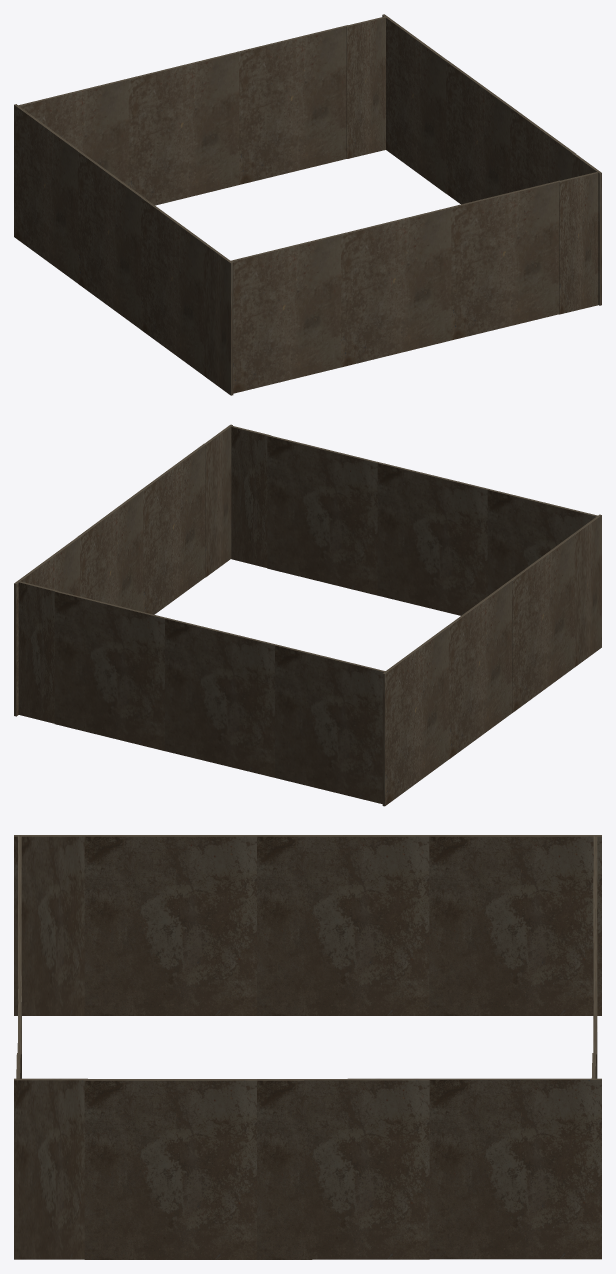
Rendered from basement_wall.glb.
3 views of the same model, one above another, from view 1: azimuth 30°, elevation 25°; view 2: azimuth 150°, elevation 25°; view 3: azimuth 270°, elevation 25° (orthographic). The views are drawn at different scales.
Visible parts, largest first — view 1: Cube.031, Cube.027, Cube.028, Cube.032, Cube.030, Cube.019, Cube.018, Cube.020, Cube.023, Cube.022, Cube.026, Cube.033 (+4 smaller); view 2: Cube.032, Cube.028, Cube.027, Cube.031, Cube.026, Cube.018, Cube.019, Cube.020, Cube.024, Cube.030, Cube.022, Cube.029 (+4 smaller); view 3: Cube.023, Cube.022, Cube.019, Cube.020, Cube.024, Cube.018, Cube.025, Cube.021.
Part boxes in pixels (left/top/right/bottom): Cube.031: left=340, top=207, right=451, bottom=367; Cube.027: left=127, top=52, right=238, bottom=205; Cube.028: left=237, top=25, right=348, bottom=184; Cube.032: left=450, top=180, right=560, bottom=340; Cube.030: left=231, top=234, right=340, bottom=393; Cube.019: left=77, top=150, right=142, bottom=329; Cube.018: left=14, top=104, right=79, bottom=282; Cube.020: left=141, top=197, right=206, bottom=375; Cube.023: left=382, top=14, right=447, bottom=193; Cube.022: left=446, top=60, right=511, bottom=204; Cube.026: left=17, top=79, right=128, bottom=185; Cube.033: left=559, top=172, right=598, bottom=314; Cube.032: left=267, top=435, right=378, bottom=595; Cube.028: left=54, top=590, right=165, bottom=750; Cube.027: left=165, top=617, right=276, bottom=777; Cube.031: left=377, top=462, right=488, bottom=615; Cube.026: left=275, top=644, right=386, bottom=803; Cube.018: left=382, top=627, right=448, bottom=806; Cube.019: left=446, top=580, right=511, bottom=759; Cube.020: left=510, top=533, right=575, bottom=712; Cube.024: left=141, top=443, right=205, bottom=614; Cube.030: left=487, top=489, right=598, bottom=595; Cube.022: left=77, top=490, right=142, bottom=611; Cube.029: left=18, top=581, right=58, bottom=723; Cube.023: left=429, top=1078, right=601, bottom=1259; Cube.022: left=257, top=1078, right=429, bottom=1259; Cube.019: left=257, top=835, right=429, bottom=1015; Cube.020: left=84, top=835, right=256, bottom=1015; Cube.024: left=84, top=1079, right=256, bottom=1259; Cube.018: left=429, top=835, right=601, bottom=1015; Cube.025: left=14, top=1078, right=87, bottom=1259; Cube.021: left=14, top=835, right=87, bottom=1015.
Bounding box in the file's own units: 11.48 × 3.91 × 11.61.
Materials: 16 (16 with a texture image).
